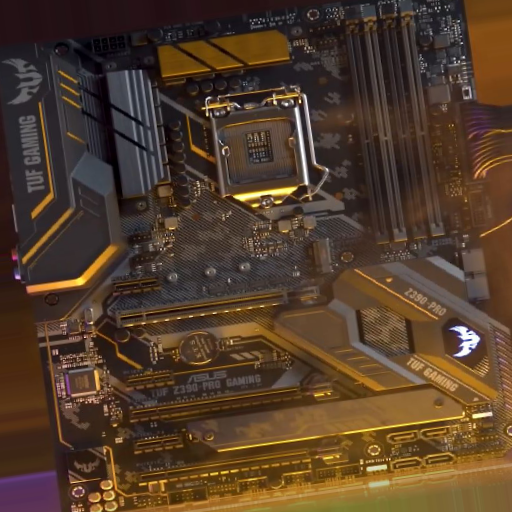CPU: (207, 85, 311, 212)
GPU: (115, 276, 329, 331), (128, 374, 338, 425), (136, 440, 350, 486)
MOTHERBOARD: (36, 1, 487, 511)
RAM: (345, 1, 446, 247)
SSD: (310, 235, 334, 276)
